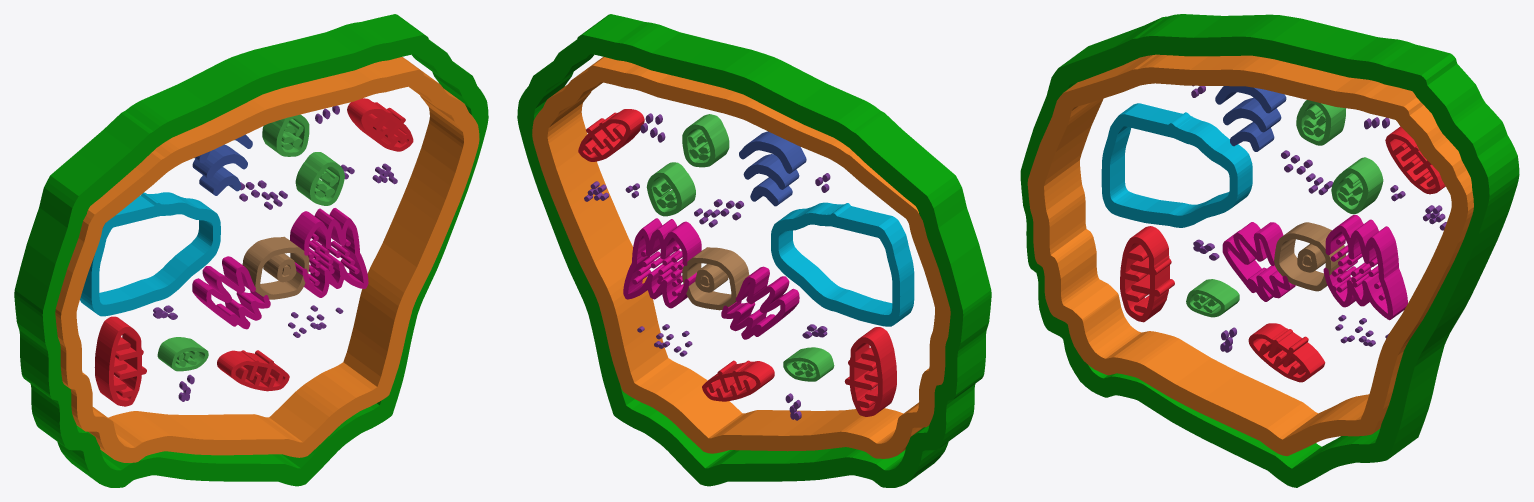
Rendered from tinker.obj.
The picture shows the model from 3 angles, left to right: view 1: azimuth 30°, elevation 25°; view 2: azimuth 150°, elevation 25°; view 3: azimuth 330°, elevation 25°; orthographic projection. The views are drawn at different scales.
Parts seen in each view (by area): view 1: group_0_16089887, group_0_41220, group_0_14093196, group_0_15277357, group_0_46295, group_0_4634441, group_0_11107152, group_0_8273816, group_0_3888547; view 2: group_0_41220, group_0_16089887, group_0_46295, group_0_14093196, group_0_15277357, group_0_4634441, group_0_3888547, group_0_11107152, group_0_8273816; view 3: group_0_16089887, group_0_41220, group_0_14093196, group_0_46295, group_0_15277357, group_0_4634441, group_0_11107152, group_0_3888547, group_0_8273816.
Boxes of the visible parts, box(x1,y1,x2,y2) form: group_0_16089887: box(55, 57, 479, 462); group_0_41220: box(14, 14, 488, 487); group_0_14093196: box(192, 208, 368, 329); group_0_15277357: box(94, 98, 413, 406); group_0_46295: box(80, 192, 220, 316); group_0_4634441: box(157, 114, 344, 371); group_0_11107152: box(242, 236, 309, 299); group_0_8273816: box(153, 105, 397, 401); group_0_3888547: box(192, 134, 252, 195); group_0_41220: box(517, 14, 991, 487); group_0_16089887: box(532, 56, 950, 458); group_0_46295: box(771, 202, 914, 326); group_0_14093196: box(623, 218, 799, 339); group_0_15277357: box(578, 109, 896, 416); group_0_4634441: box(646, 114, 834, 381); group_0_3888547: box(739, 131, 806, 206); group_0_11107152: box(682, 247, 749, 310); group_0_8273816: box(584, 113, 830, 420); group_0_16089887: box(1027, 54, 1473, 456); group_0_41220: box(1020, 14, 1519, 487); group_0_14093196: box(1222, 214, 1407, 320); group_0_46295: box(1101, 103, 1252, 227); group_0_15277357: box(1120, 126, 1445, 382); group_0_4634441: box(1186, 100, 1383, 317); group_0_11107152: box(1274, 222, 1345, 291); group_0_3888547: box(1215, 86, 1286, 151); group_0_8273816: box(1191, 85, 1446, 352).
Bounding box in the file's own units: 181 × 164 × 24.
